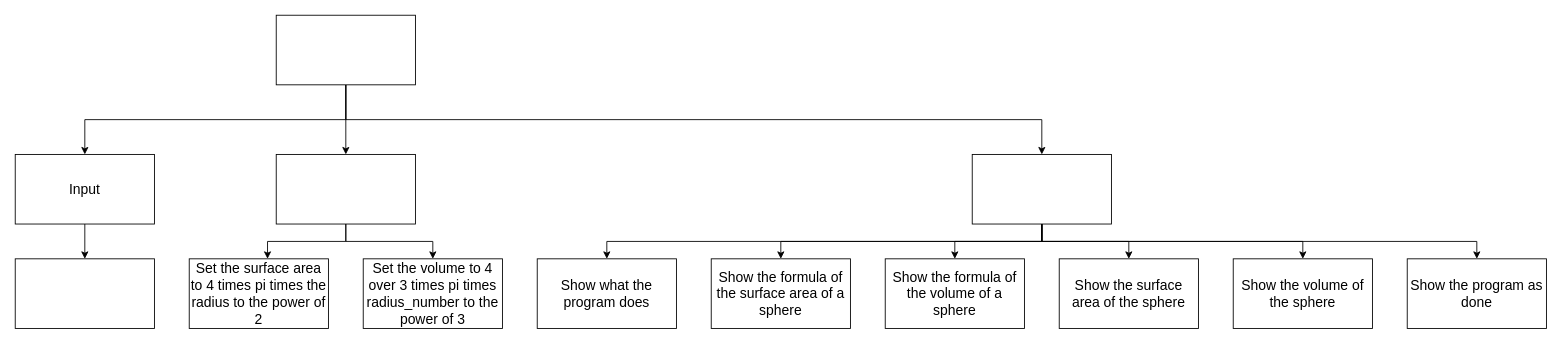
Some shapes in this 1562 by 344 pixel diagram are drawn without their labels. Here are the shapes that lost their labels. From the top down, the centre of each, then its label:
point (345, 49): Calculating the Surface Area and the Volume of a Sphere
point (345, 189): Process
point (1041, 189): Output
point (84, 293): Set a circle's radius
